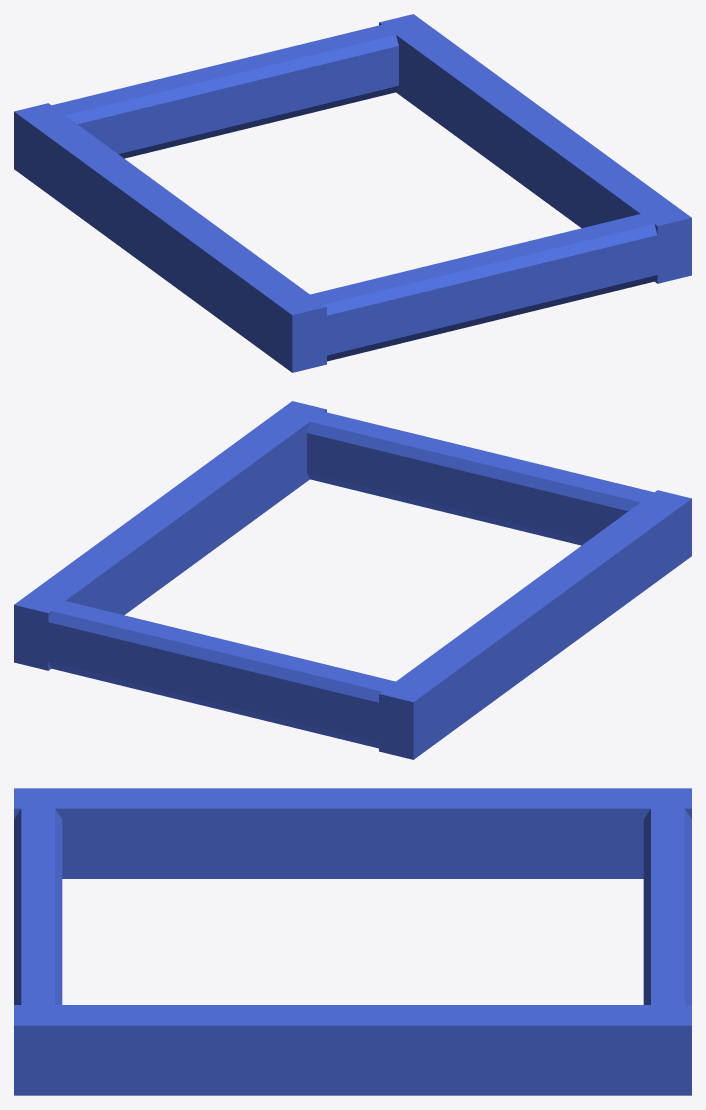
Rendered from bumpers.fbx.
3 views of the same model, one above another, from view 1: azimuth 30°, elevation 25°; view 2: azimuth 150°, elevation 25°; view 3: azimuth 270°, elevation 25° (orthographic). The views are drawn at different scales.
Parts seen in each view (by area): view 1: Cube.005, Cube.002, Cube.001, Cube.003, Cube.006, Cube.004; view 2: Cube.005, Cube.002, Cube.001, Cube.003, Cube.004, Cube.006; view 3: Cube.002, Cube.005, Cube.004, Cube.006, Cube.001, Cube.003.
Boxes of the visible parts, x1,y1,x2,y2 form: Cube.005: [14, 103, 326, 372]; Cube.002: [379, 14, 691, 283]; Cube.001: [475, 214, 657, 321]; Cube.003: [217, 24, 398, 132]; Cube.006: [310, 254, 492, 361]; Cube.004: [52, 65, 233, 158]; Cube.005: [379, 490, 691, 759]; Cube.002: [14, 401, 326, 670]; Cube.001: [307, 411, 488, 519]; Cube.003: [48, 601, 230, 708]; Cube.004: [213, 641, 395, 748]; Cube.006: [472, 452, 653, 545]; Cube.002: [14, 1005, 691, 1095]; Cube.005: [14, 788, 691, 878]; Cube.004: [643, 808, 691, 916]; Cube.006: [14, 808, 62, 916]; Cube.001: [14, 907, 62, 1004]; Cube.003: [643, 907, 691, 1004].
Size of the model in its own units: 580 by 80 by 700.
